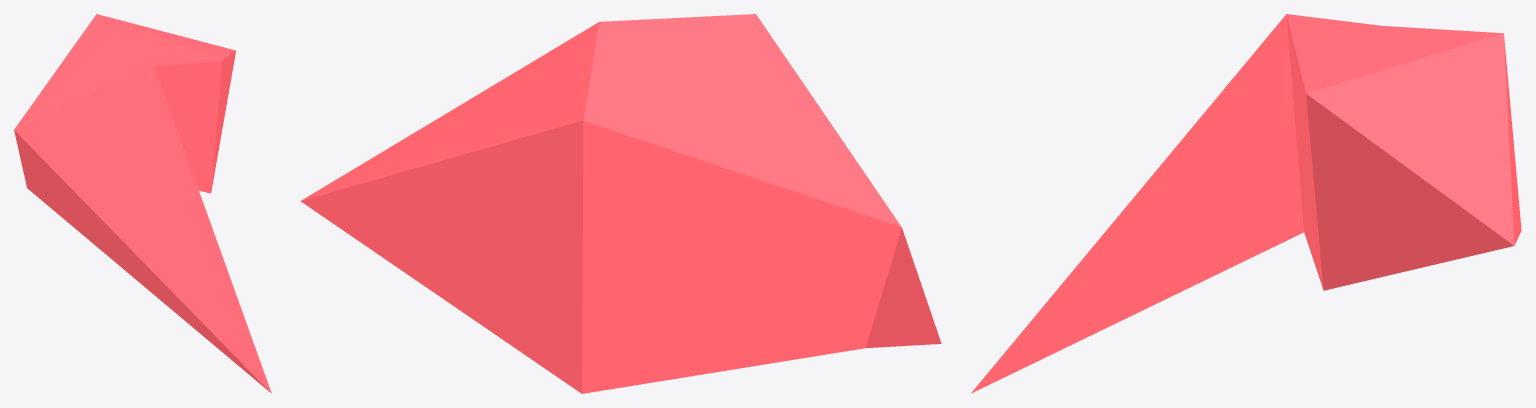
The model's file is H1_RPl_Blob4.gltf.
3 renders of one model, left to right at view 1: azimuth 30°, elevation 25°; view 2: azimuth 150°, elevation 25°; view 3: azimuth 270°, elevation 25°, orthographic. The views are drawn at different scales.
Parts seen in each view (by area): view 1: H1_RPl_Blob4; view 2: H1_RPl_Blob4; view 3: H1_RPl_Blob4.
Part boxes in pixels (left/top/right/bottom): H1_RPl_Blob4: left=14, top=14, right=271, bottom=393; H1_RPl_Blob4: left=300, top=14, right=941, bottom=393; H1_RPl_Blob4: left=971, top=14, right=1521, bottom=393.
Size of the model in its own units: 0.7693 by 0.6934 by 0.9305.
